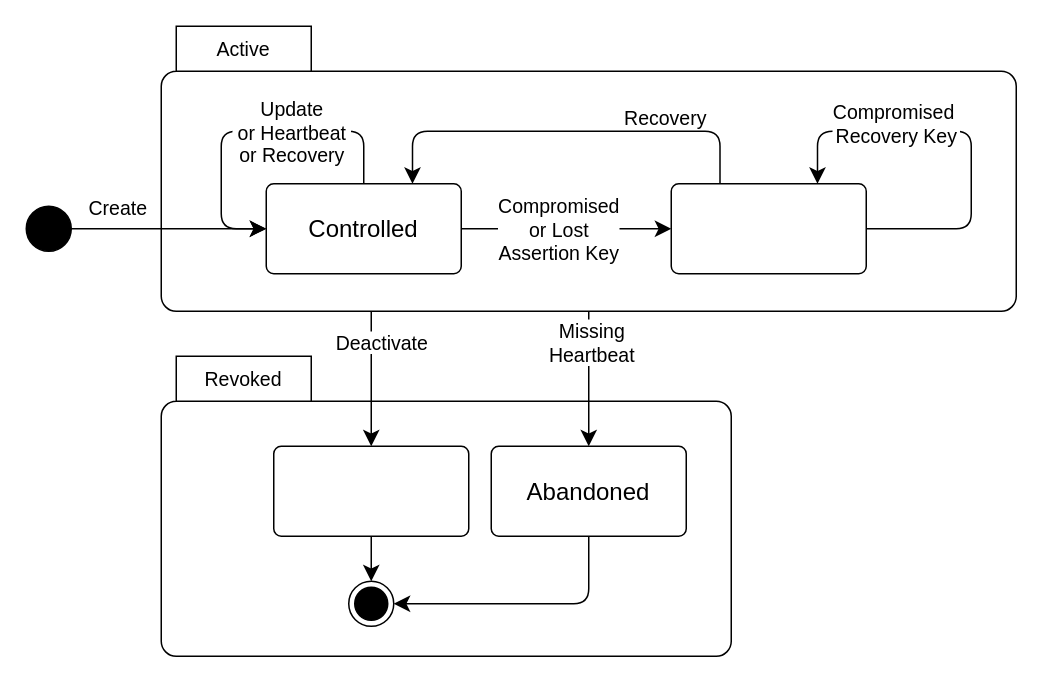
Image size: 1043x683. Some labels were removed from this diagram. The shapes that lost their labels are listed below. From the top down, each one's centre as x and y in pixels, then its label:
At [768,228]: "Uncontrolled".
At [370,490]: "Deactivated".
